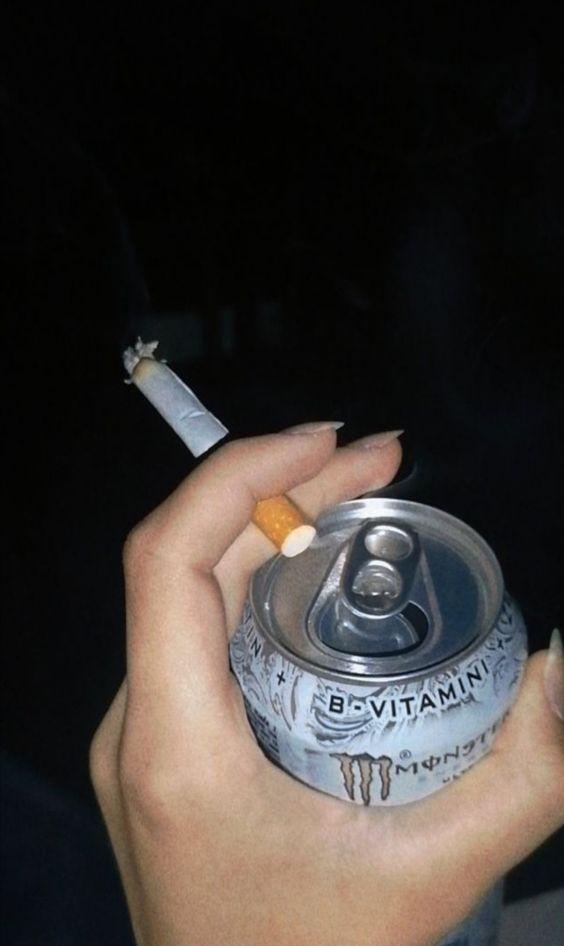cigarette: (121, 344, 317, 557)
